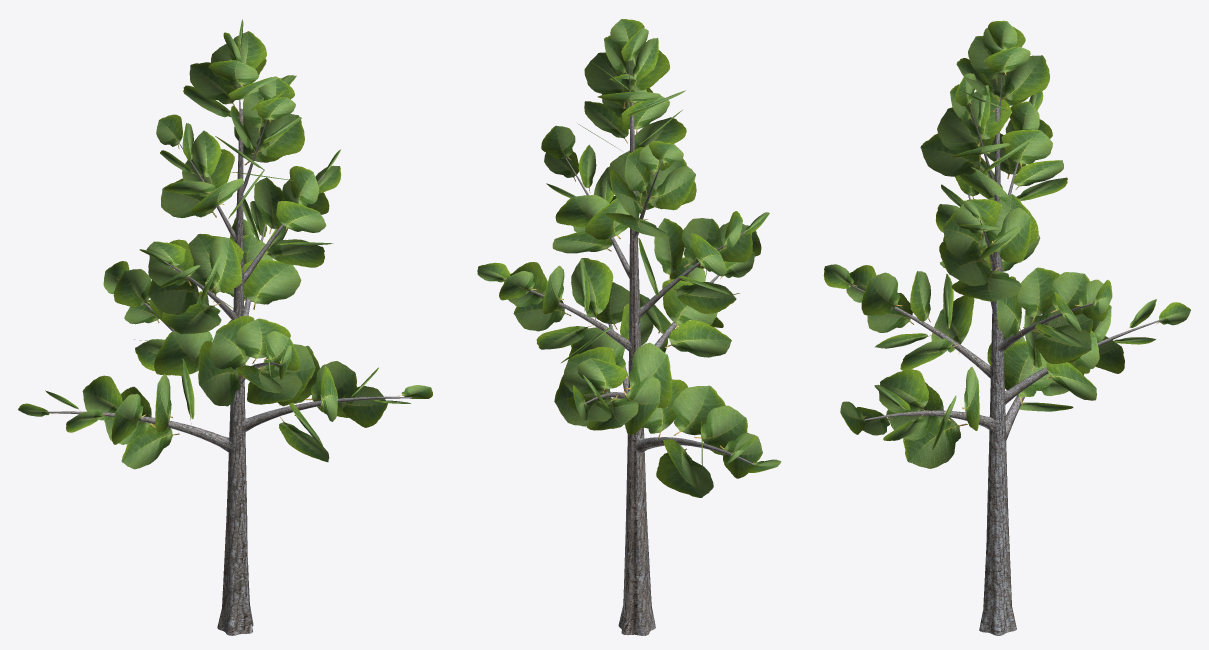
File: Tree.fbx
3 views of the same model, side by side, from view 1: azimuth 30°, elevation 25°; view 2: azimuth 150°, elevation 25°; view 3: azimuth 270°, elevation 25° (orthographic).
Visible parts, largest first — view 1: Tree_1, Tree_0; view 2: Tree_1, Tree_0; view 3: Tree_1, Tree_0.
Boxes of the visible parts, x1,y1,x2,y2 form: Tree_1: [18, 19, 432, 469]; Tree_0: [45, 84, 411, 635]; Tree_1: [477, 19, 781, 497]; Tree_0: [503, 61, 754, 635]; Tree_1: [823, 20, 1190, 468]; Tree_0: [846, 49, 1165, 635].
Size of the model in its own units: 159 by 292 by 164.
2 materials, 2 textured.
